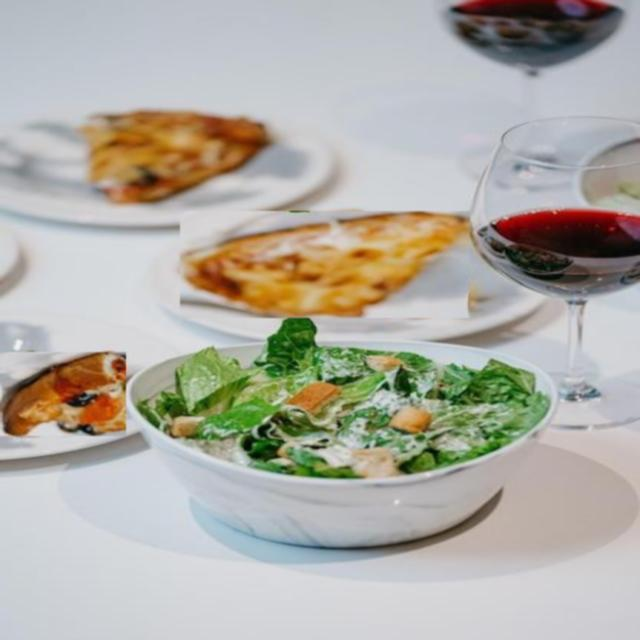olive: (21, 351, 69, 368), (30, 380, 60, 396)
pizza: (180, 211, 470, 318), (86, 111, 268, 204), (0, 352, 126, 436)
